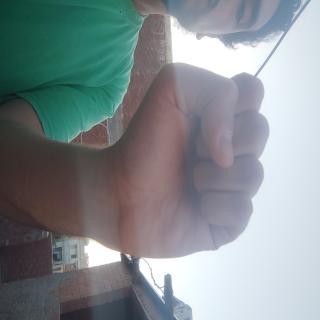SAD: (42, 65, 198, 294)
